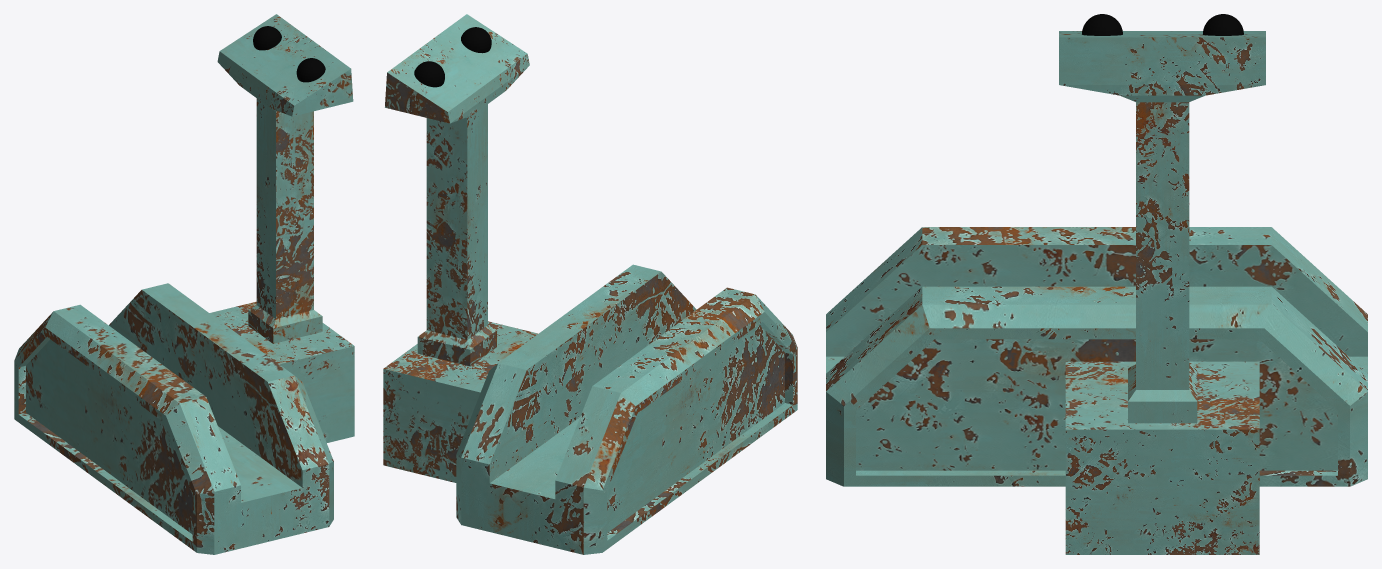
The model's file is Lever_Base.fbx.
3 views of the same model, side by side, from view 1: azimuth 30°, elevation 25°; view 2: azimuth 150°, elevation 25°; view 3: azimuth 270°, elevation 25° (orthographic). The views are drawn at different scales.
Visible parts, largest first — view 1: Base; view 2: Base; view 3: Base.
Boxes of the visible parts, x1,y1,x2,y2 form: Base: (14, 14, 354, 554); Base: (383, 14, 797, 554); Base: (826, 14, 1367, 554).
Size of the model in its own units: 140 by 211 by 200.
